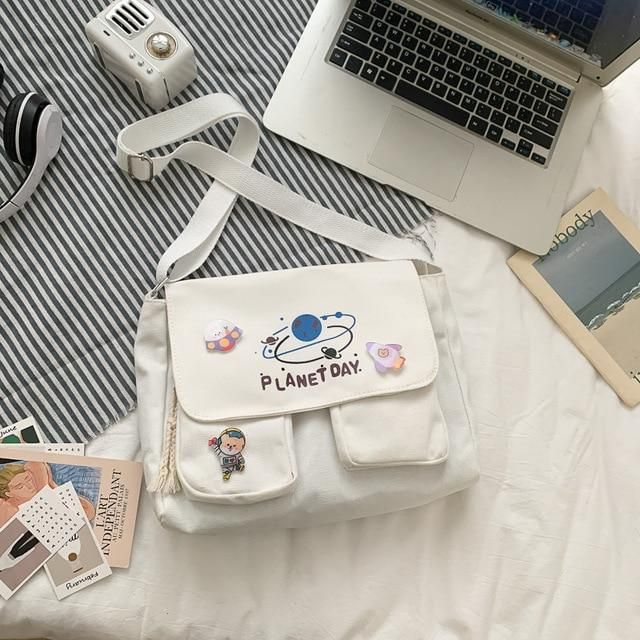nylon: (135, 258, 481, 536)
